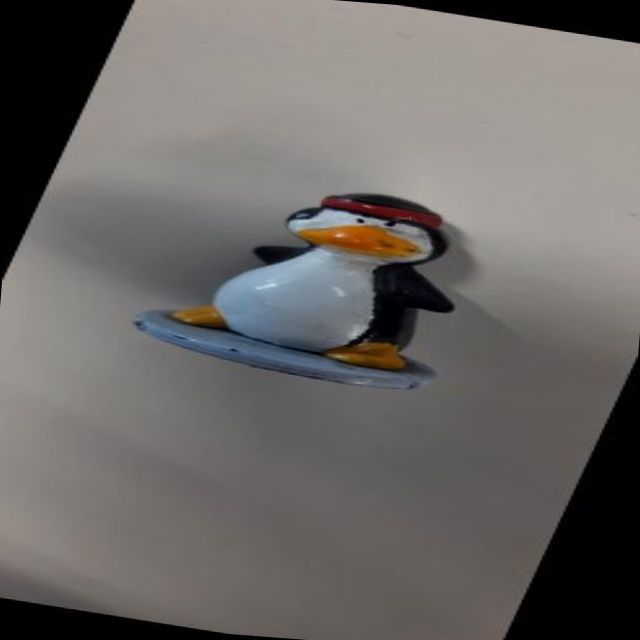Penguin: (112, 155, 525, 409)
